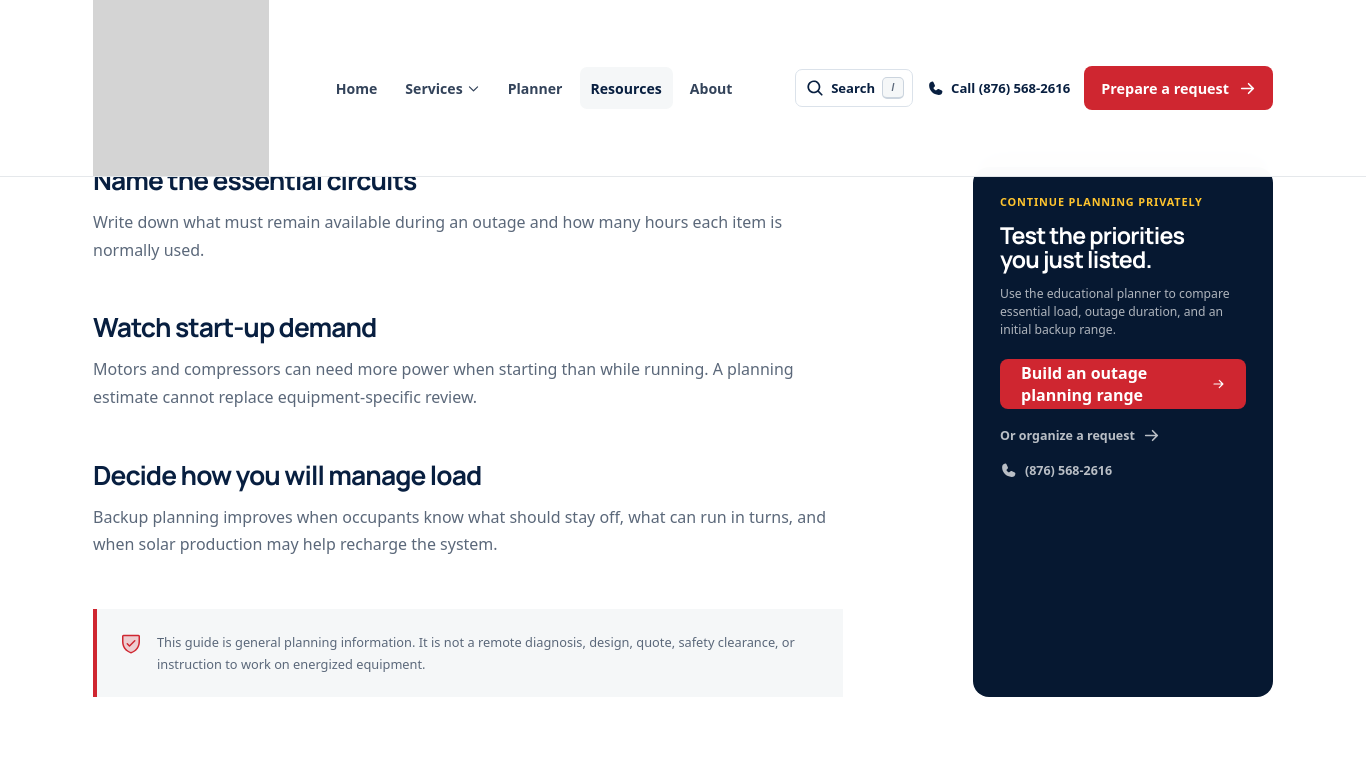
Test: Matken customer journeys › routes a resource reader to the matching educational planning tool
The width and height of the screenshot is (1366, 762).
(page scrolled)
Click the link "Build an outage planning range": [1123, 384] box left=1000, top=360, right=1246, bottom=410
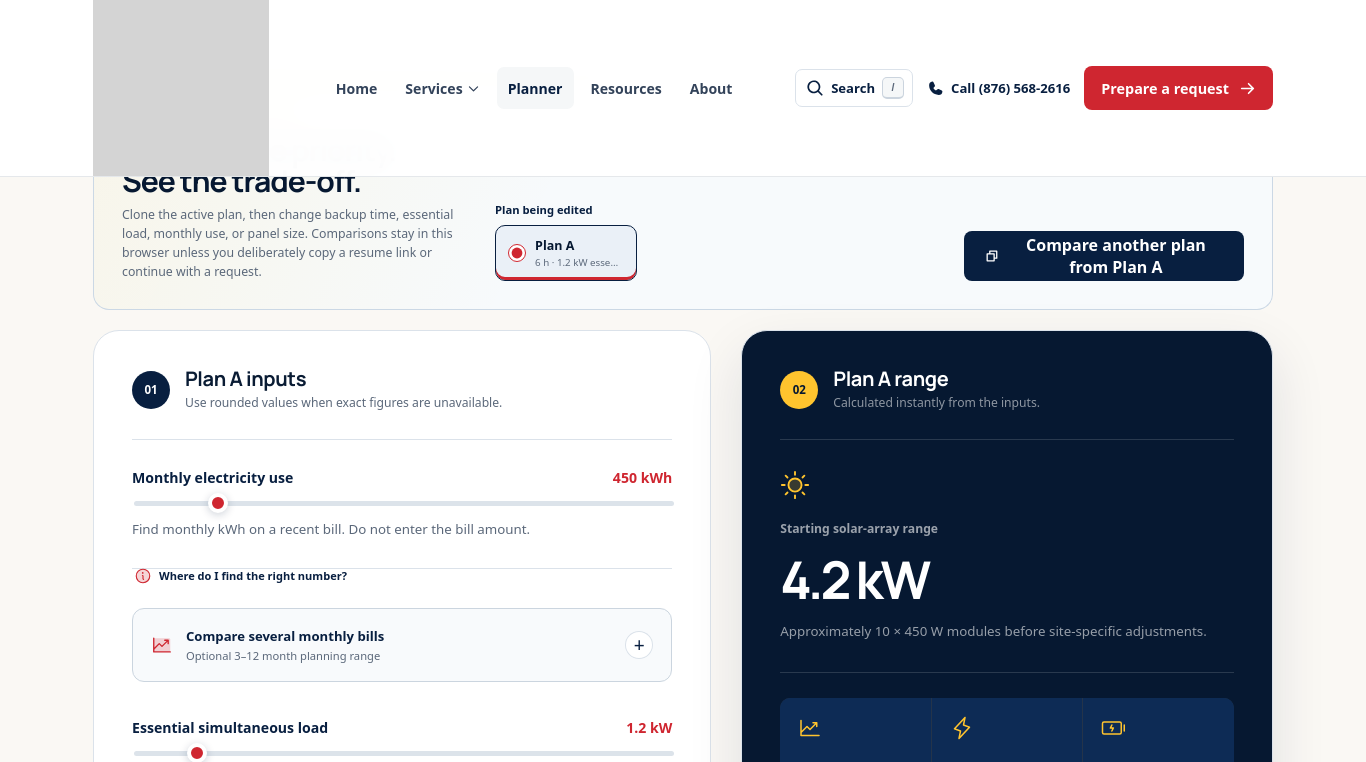
Expected: the heading "Plan A inputs" is shown, left=185, top=365, right=306, bottom=392
